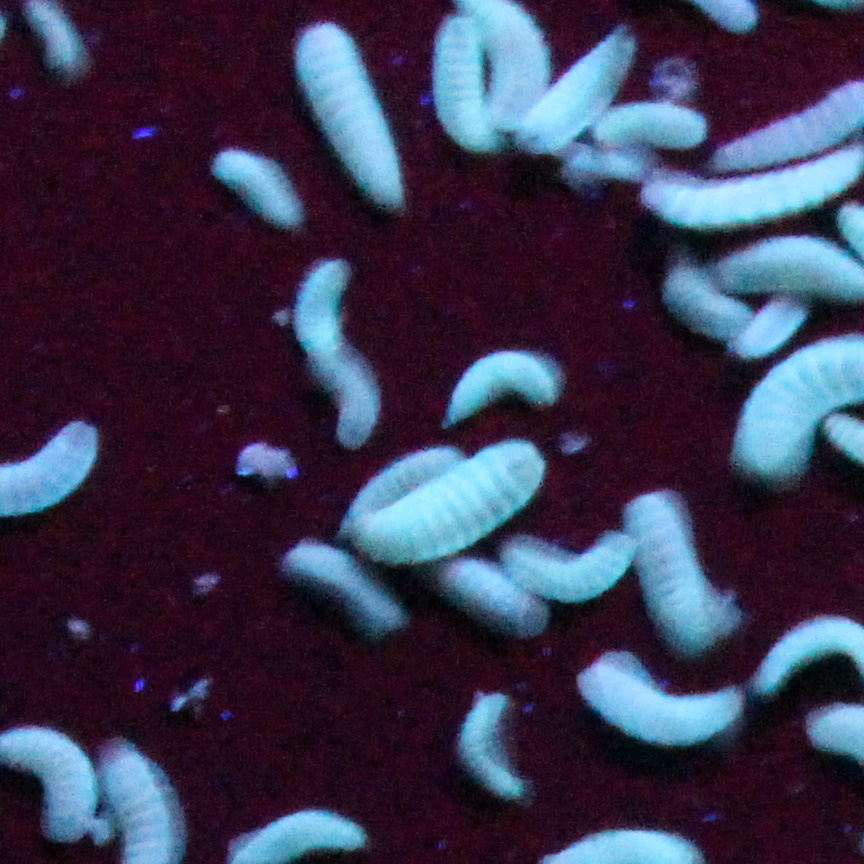larve: (362, 432, 546, 560), (290, 36, 398, 200), (582, 672, 738, 752), (642, 500, 726, 648), (641, 168, 862, 224), (454, 688, 534, 808), (330, 248, 374, 444), (550, 32, 622, 148), (290, 552, 406, 620), (442, 352, 566, 408), (660, 260, 749, 333), (450, 16, 498, 148), (215, 148, 298, 224), (596, 109, 707, 147), (526, 12, 530, 136)
